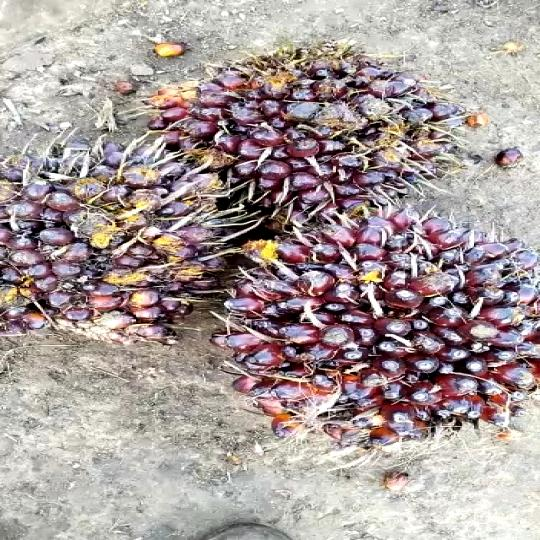kurang masak: (182, 195, 540, 476), (166, 31, 506, 220), (0, 127, 252, 354)
